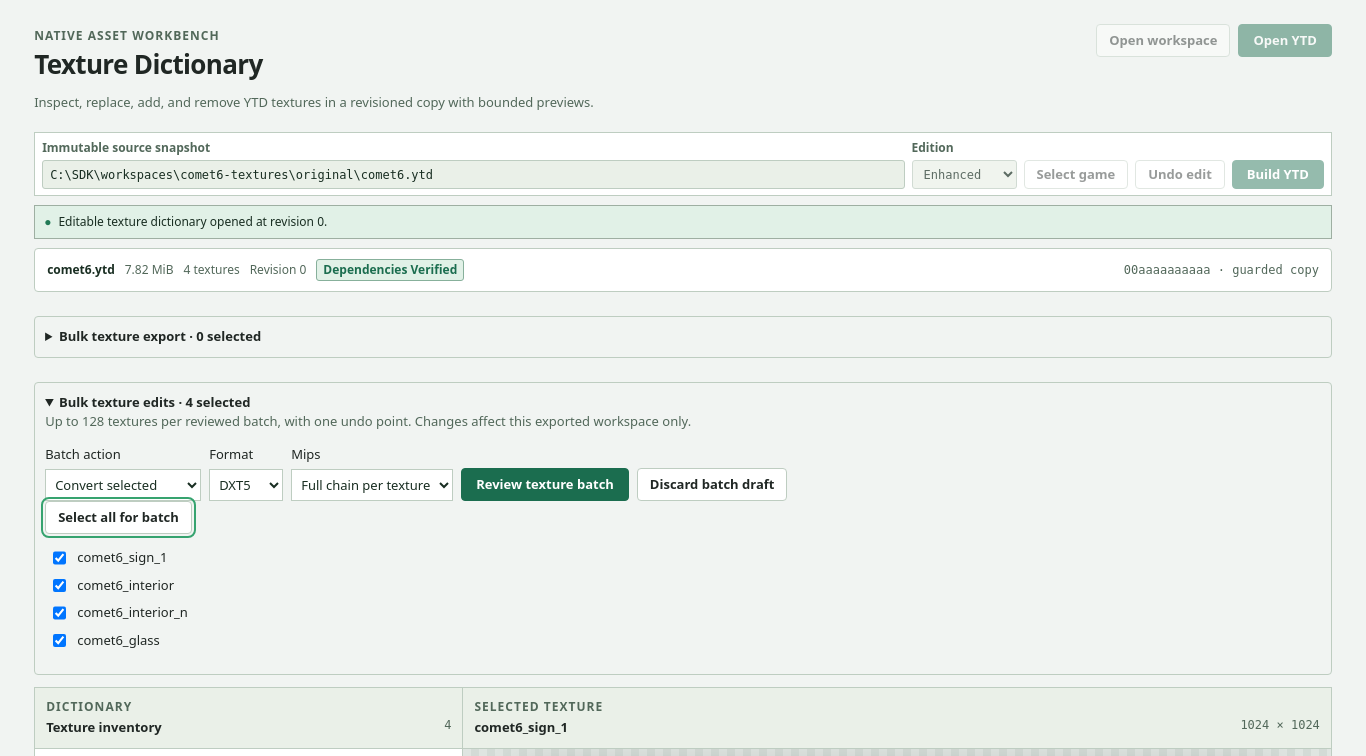
it: guards a selected batch, preserves it on review cancellation, commits once and undoes together
Earlier steps of the test are not shown.
Expected: the button "Open workspace" is disabled, [1096,24,1230,57]
Click the button "Review texture batch" at coordinates (545, 485), box [461,468,629,501]
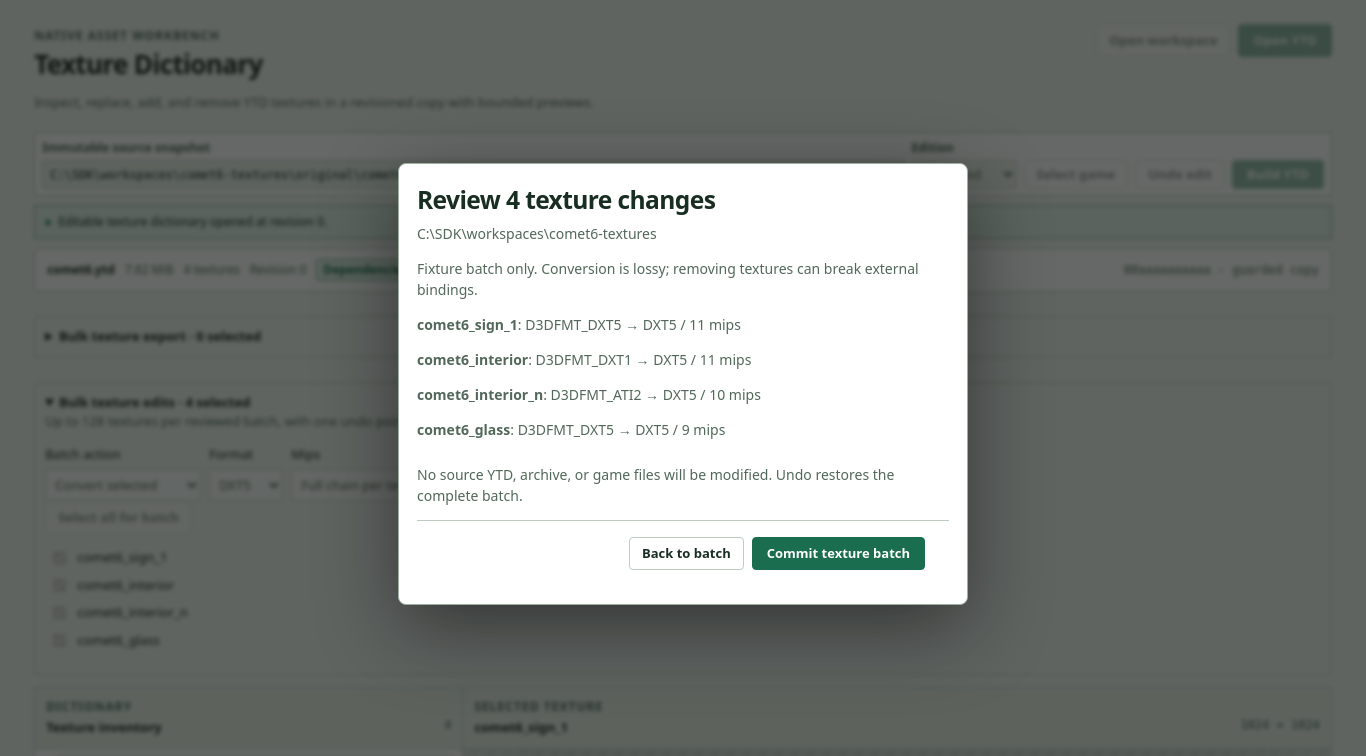
Click the button "Back to batch" at coordinates (686, 553), box [629,537,744,570]
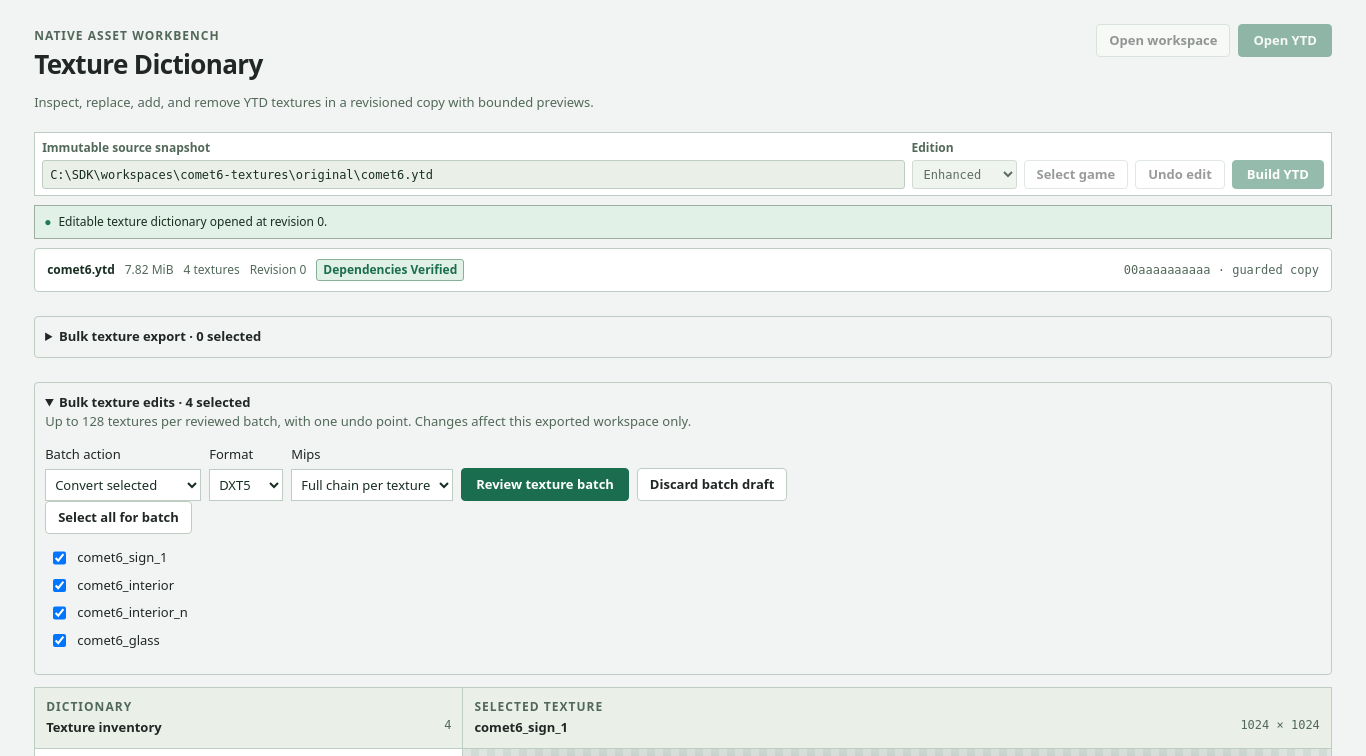
Click the button "Review texture batch" at coordinates (545, 485), box [461,468,629,501]
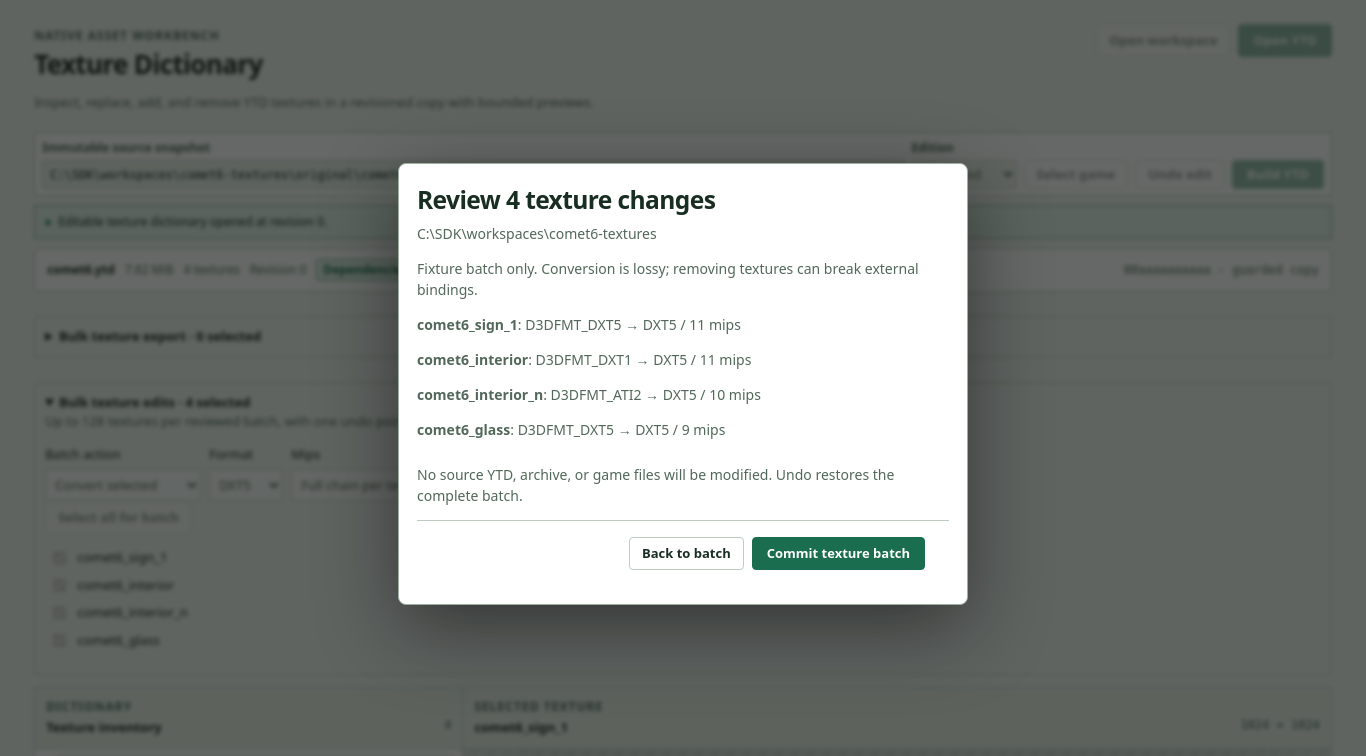
Click the button "Commit texture batch" at coordinates (838, 553), box [752,537,925,570]
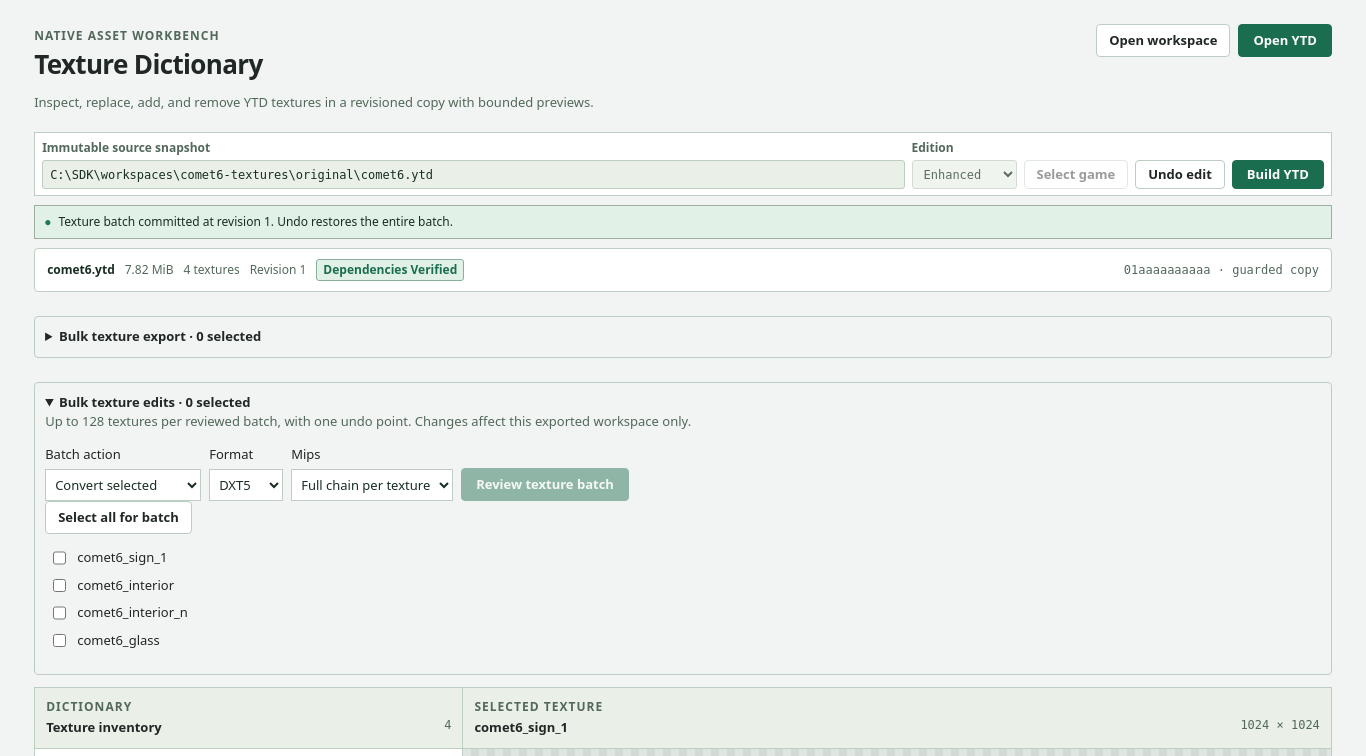
Expected: the text "Texture batch committed at revision 1" is shown, [58,213,453,230]
Click the button "Undo edit" at coordinates (1180, 175), box [1135,160,1225,189]
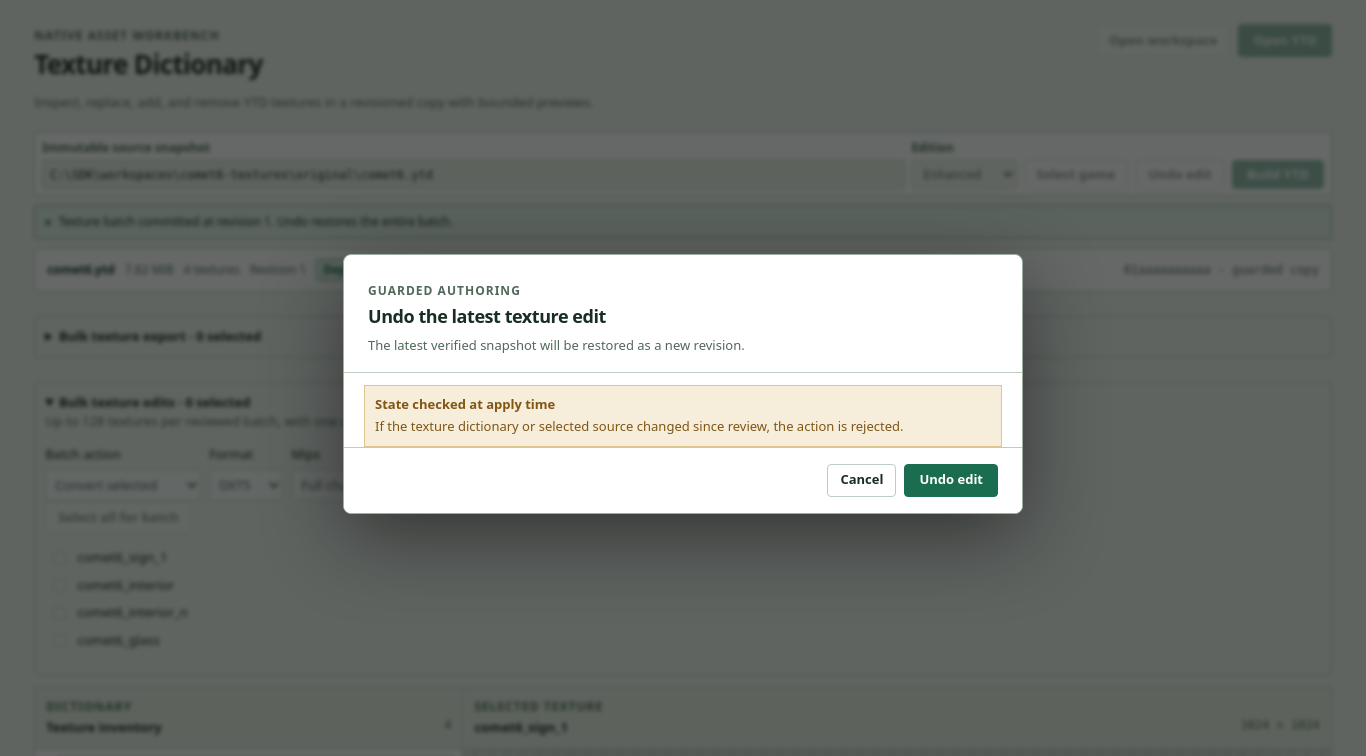
Click the button "Undo edit" at coordinates (951, 480), box [904,464,998,497]
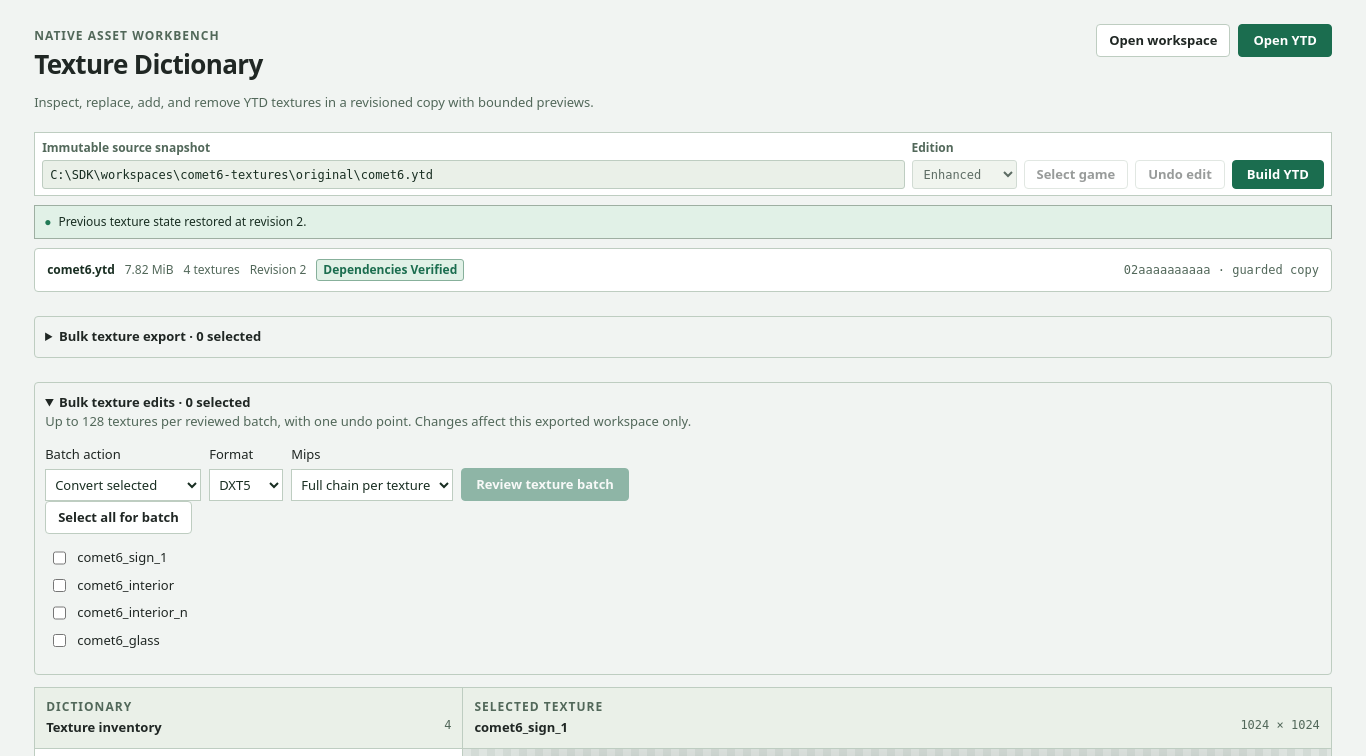
Expected: the text "Previous texture state restored at revision 2." is shown, [58,213,306,231]
